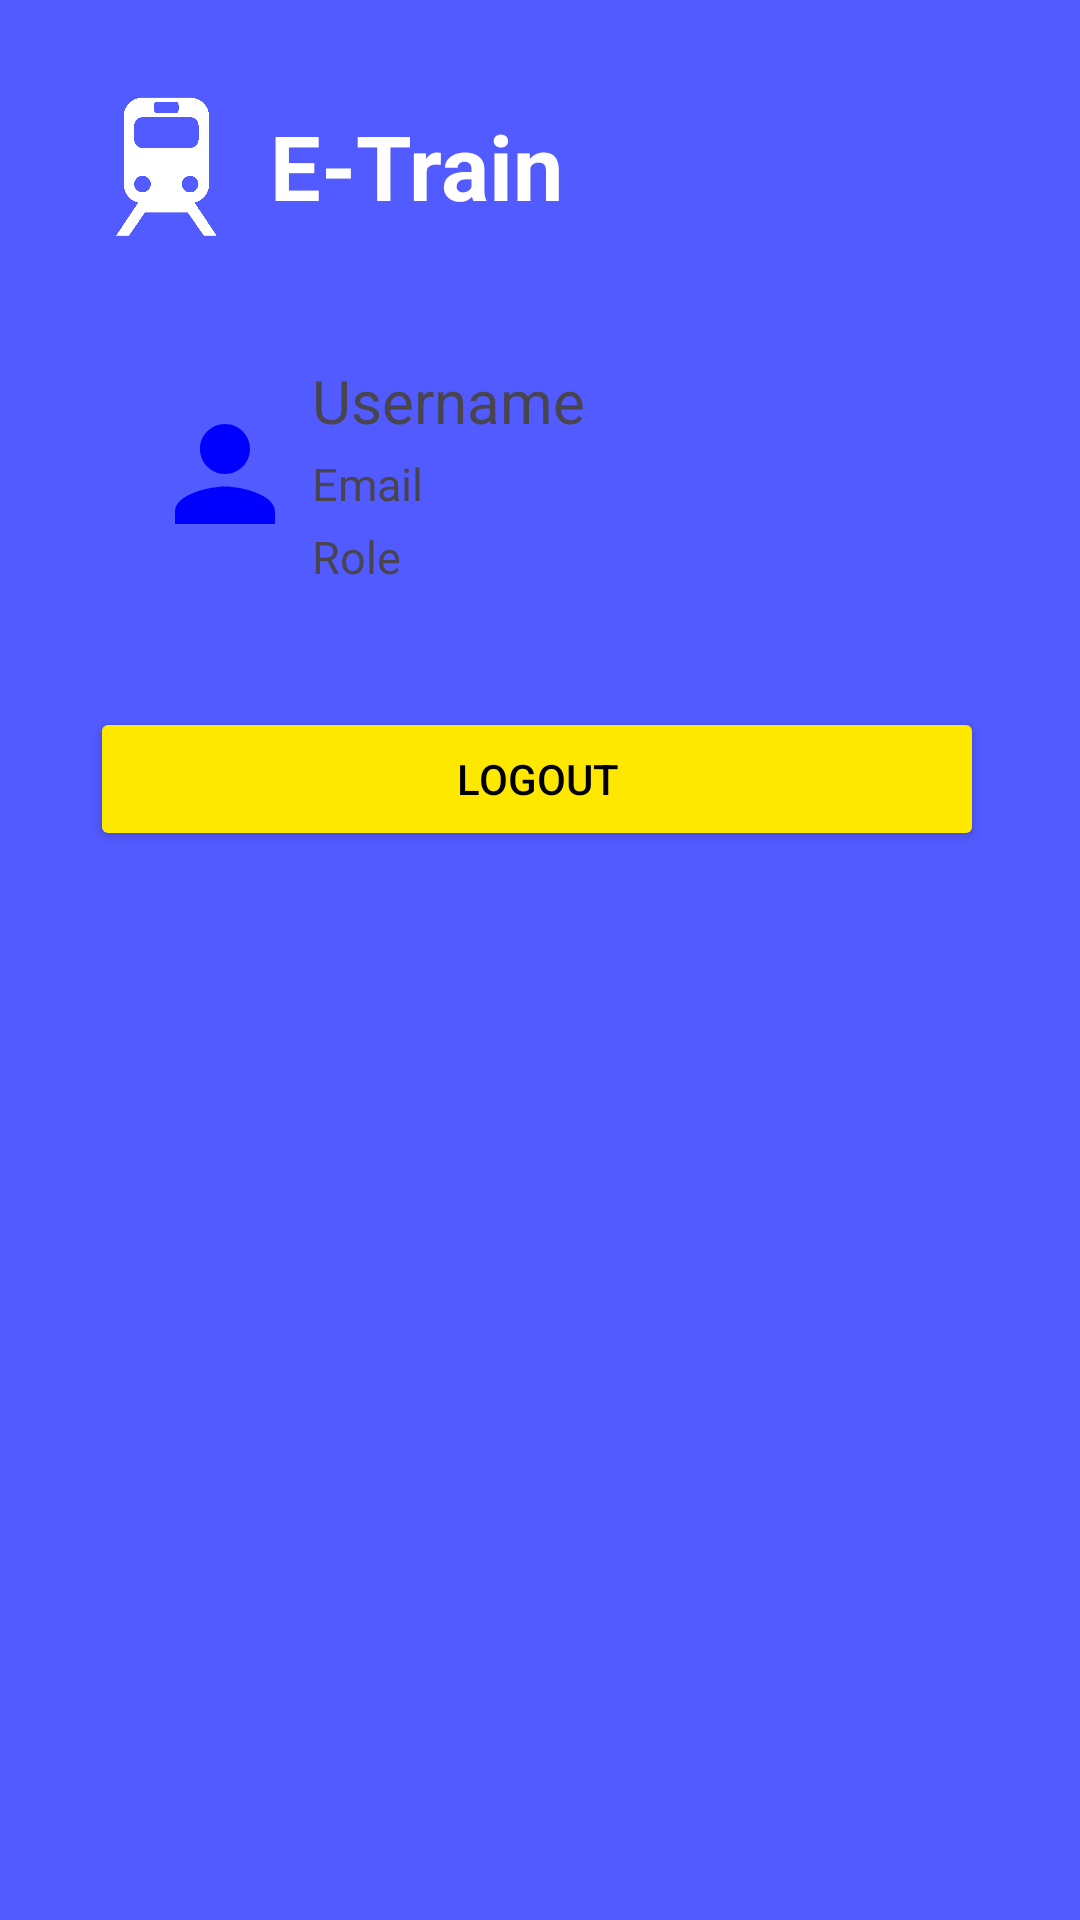

Where icons sit on this 1080x1920 app screen, as [x1,y1,x2,y2]:
person profile: [175,424,275,524]
